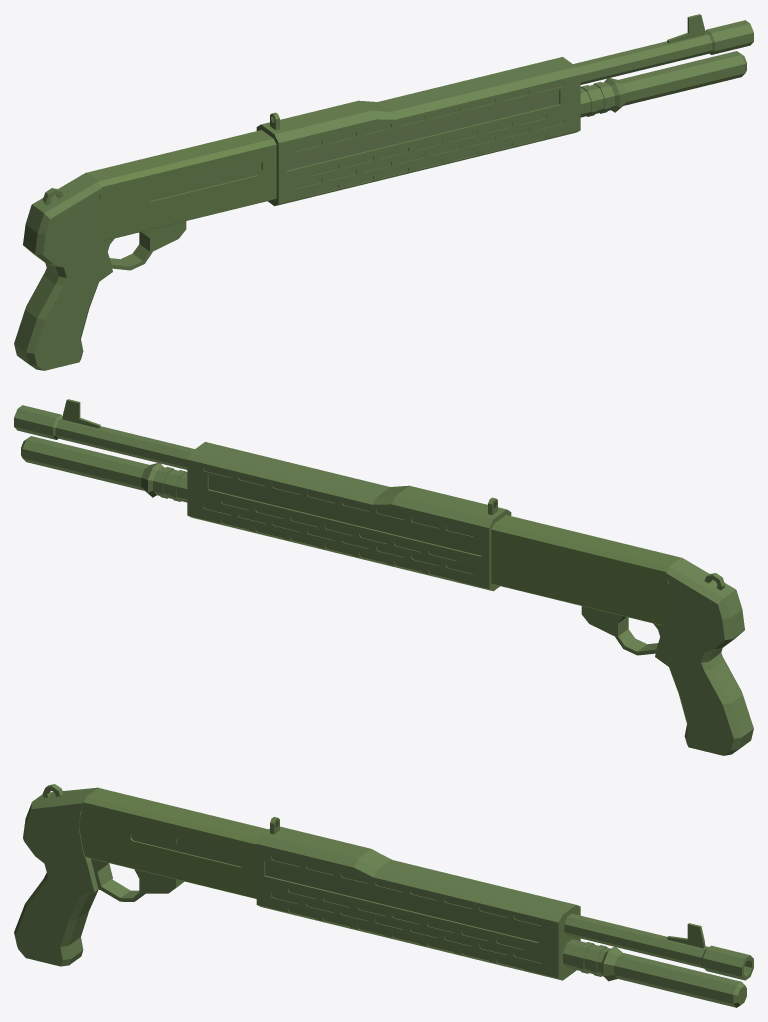
The model's file is Shotgun5_01.fbx.
3 renders of one model, top to bottom at view 1: azimuth 30°, elevation 25°; view 2: azimuth 150°, elevation 25°; view 3: azimuth 330°, elevation 25°, orthographic.
Parts seen in each view (by area): view 1: Shotgun5_01; view 2: Shotgun5_01; view 3: Shotgun5_01.
Boxes of the visible parts, x1,y1,x2,y2 form: Shotgun5_01: (14, 14, 753, 370); Shotgun5_01: (14, 399, 753, 755); Shotgun5_01: (14, 784, 753, 1007).
Bounding box in the file's own units: 0.8358 × 0.2102 × 0.0437.
